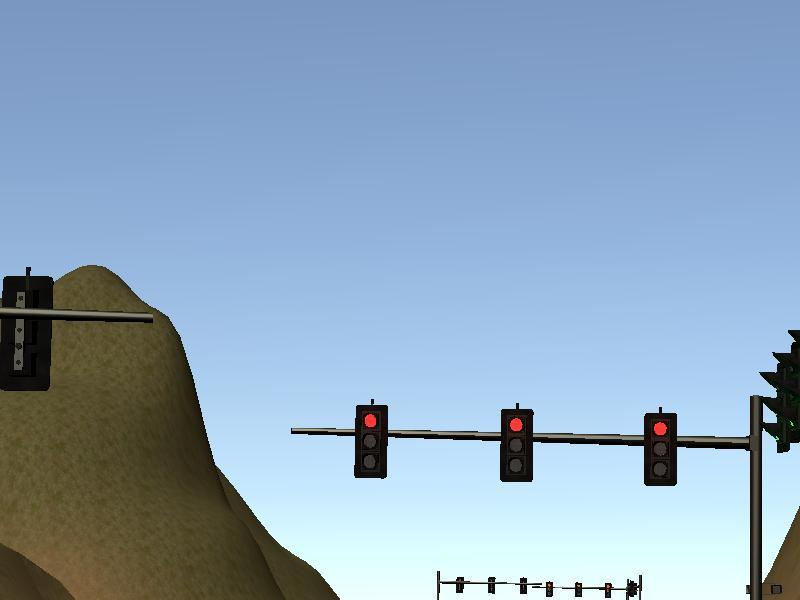Red: (644, 413, 677, 486), (500, 409, 533, 482), (354, 404, 387, 477), (603, 579, 612, 599), (574, 580, 583, 598), (545, 580, 553, 598)
